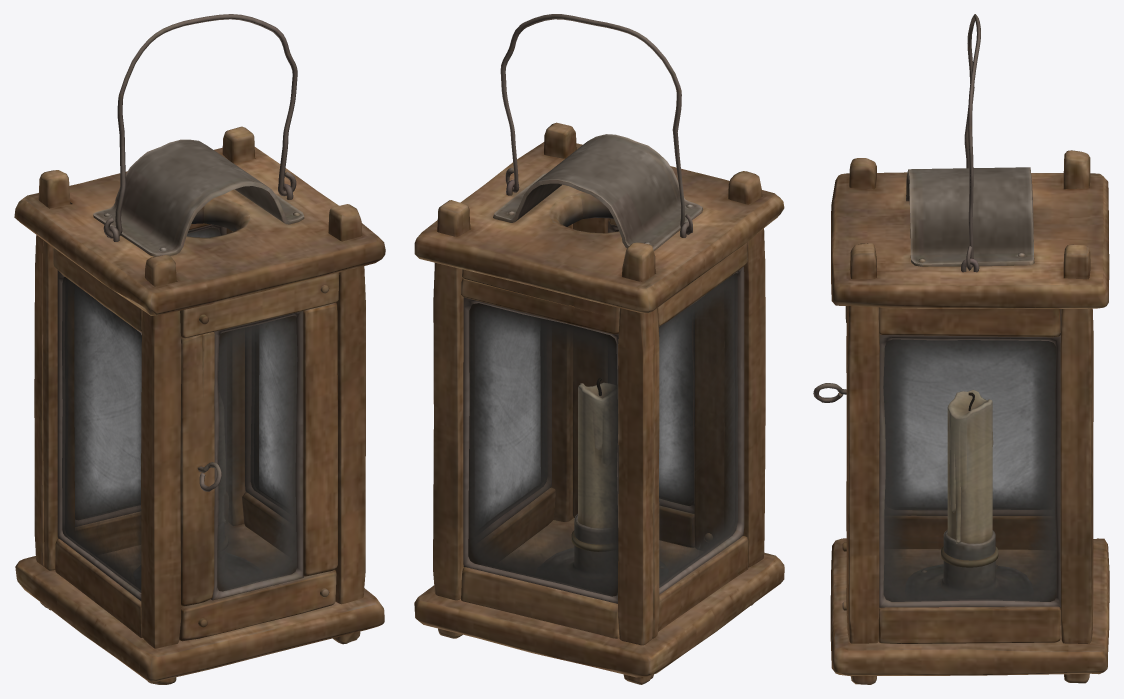
The model's file is wooden_lantern_01.glb.
3 renders of one model, left to right at view 1: azimuth 30°, elevation 25°; view 2: azimuth 150°, elevation 25°; view 3: azimuth 270°, elevation 25°, orthographic.
Visible parts, largest first — view 1: wooden_lantern_01, wooden_lantern_01_door, wooden_lantern_01_handle; view 2: wooden_lantern_01, wooden_lantern_01_door, wooden_lantern_01_handle; view 3: wooden_lantern_01, wooden_lantern_01_handle, wooden_lantern_01_door.
Part boxes in pixels (x1,y1,x2,y2): wooden_lantern_01: (14,126,385,684); wooden_lantern_01_door: (179,272,339,641); wooden_lantern_01_handle: (103,14,297,238); wooden_lantern_01: (414,122,784,684); wooden_lantern_01_door: (573,217,724,549); wooden_lantern_01_handle: (500,14,692,234); wooden_lantern_01: (830,150,1109,684); wooden_lantern_01_handle: (964,14,980,270); wooden_lantern_01_door: (813,306,847,610).
Size of the model in its own units: 0.2211 by 0.5301 by 0.2347.
Materials: 2 (2 with a texture image).
